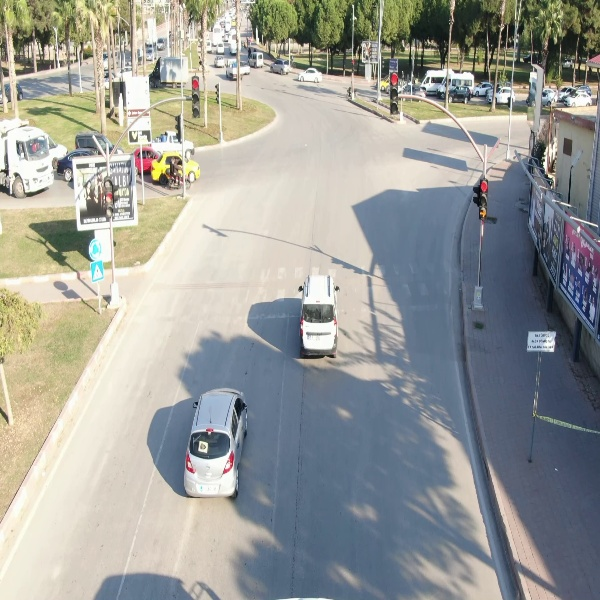car: (182, 386, 251, 500), (296, 273, 340, 359), (486, 84, 515, 107), (561, 89, 594, 108), (445, 84, 474, 105), (267, 58, 292, 78), (298, 66, 325, 84), (245, 49, 265, 70)
